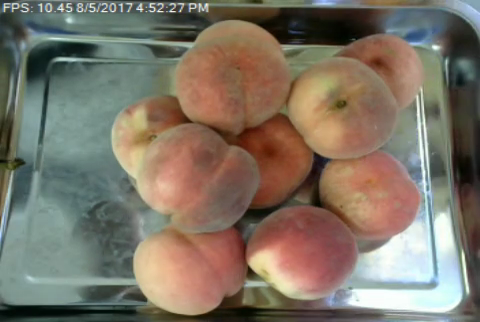Peach: (174, 19, 289, 134), (139, 123, 256, 229), (282, 57, 397, 160), (131, 223, 252, 314), (244, 204, 358, 299), (317, 150, 417, 241), (332, 31, 424, 109)
